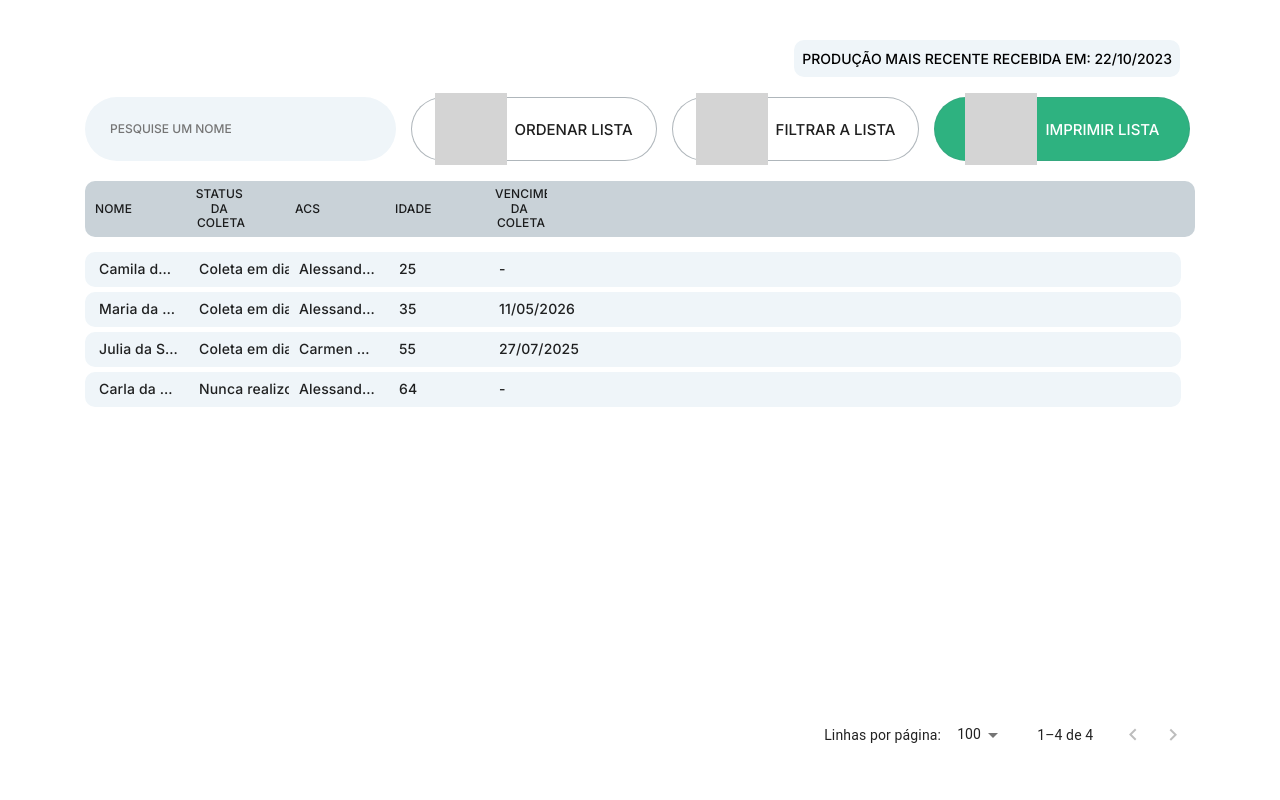
Test: Funcionalidade: ordenação › Ao aplicar uma opção de ordenação › deve exibir os dados ordenados e fechar o modal de ordenação
Click the button "ORDENAR LISTA" at (534, 129), box [410,97,657,161]
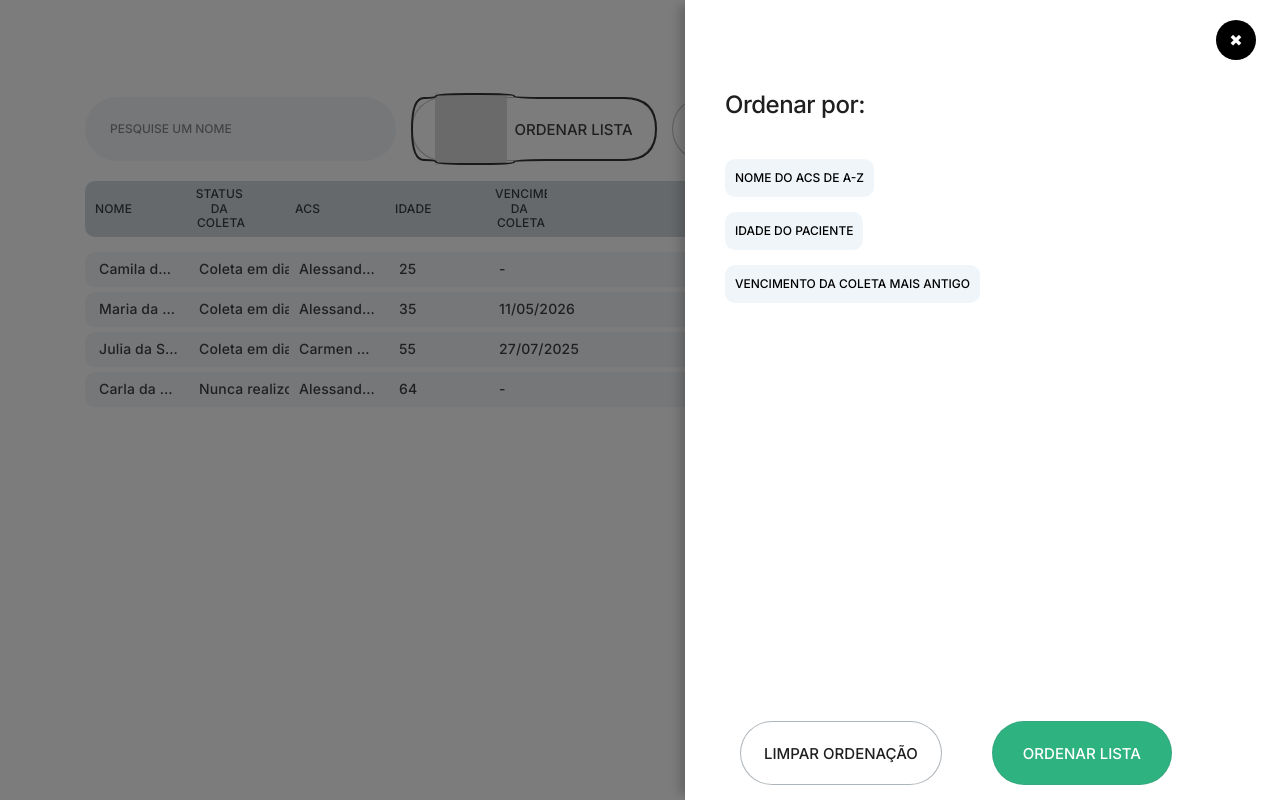
Click the text "NOME DO ACS DE A-Z" at (800, 178), box [725,159,874,197]
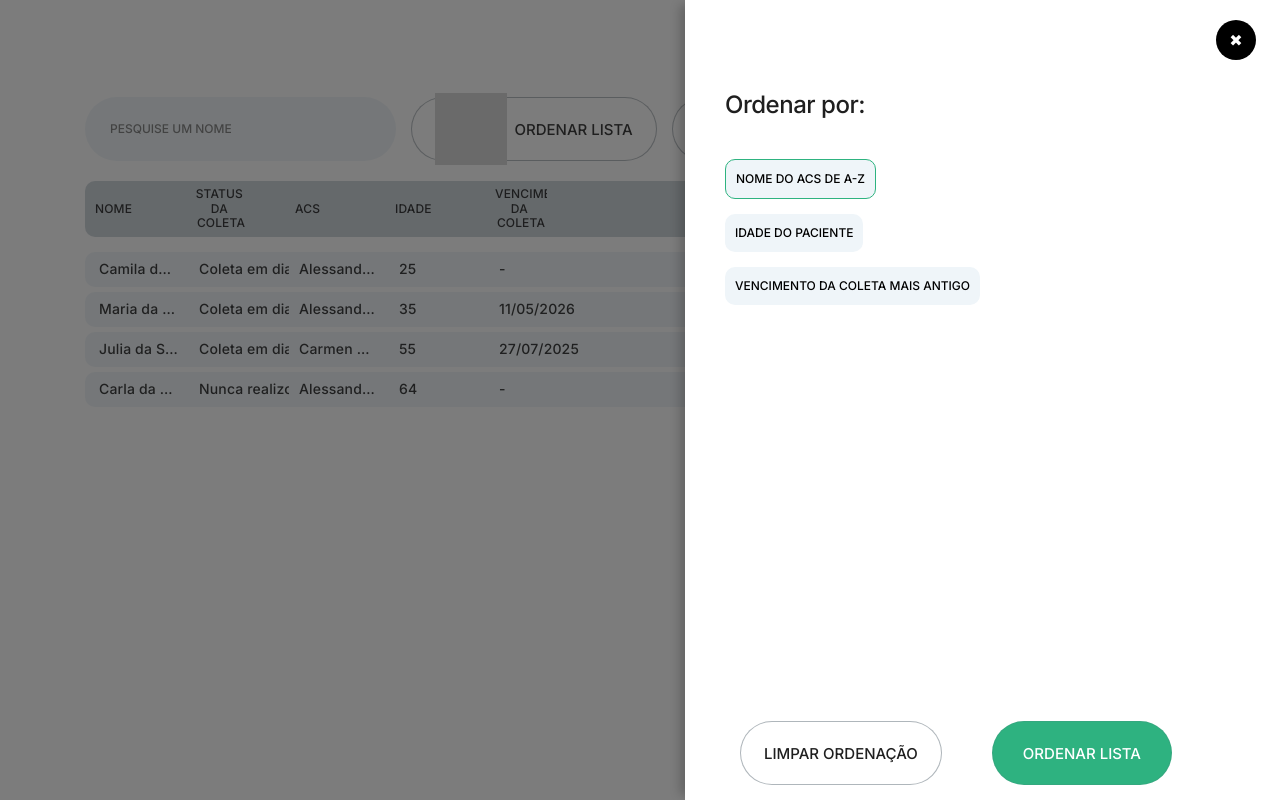
Click the button "ORDENAR LISTA" at (1082, 753), box [992,721,1172,785]
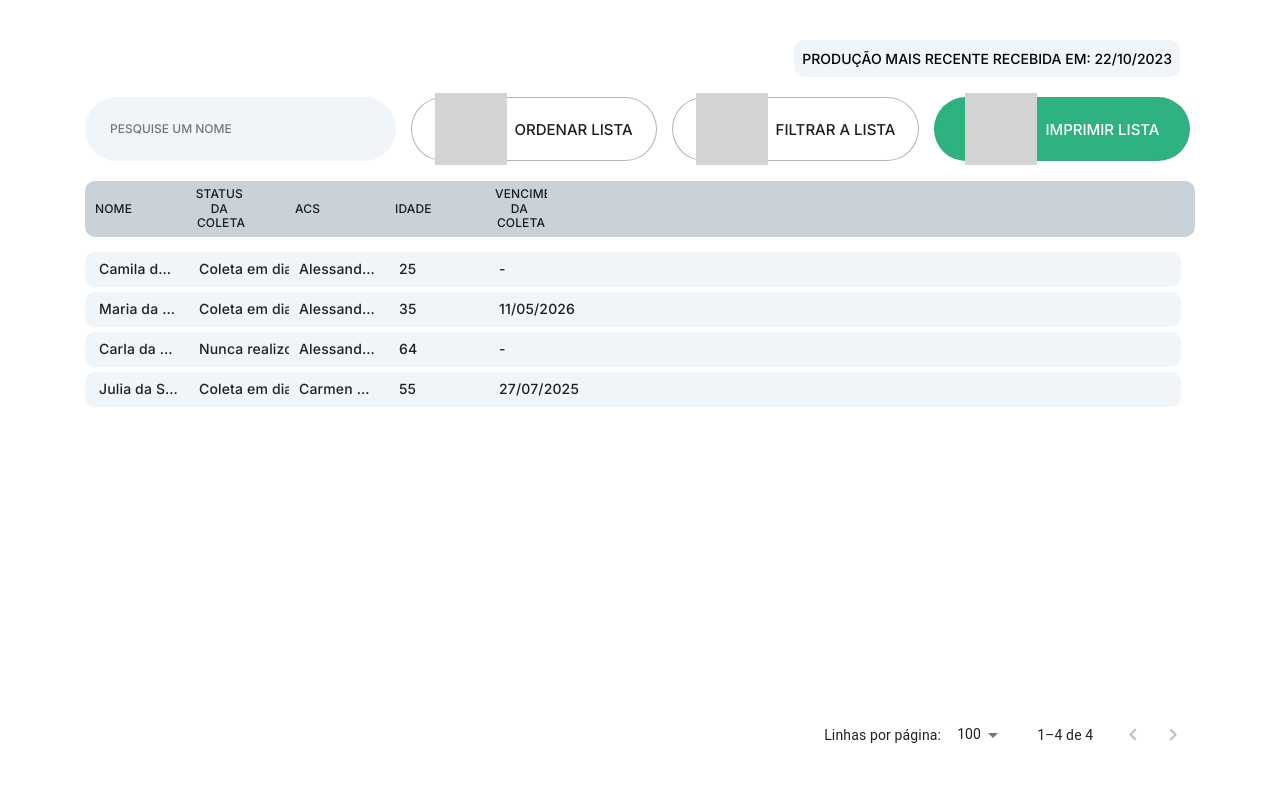
Expected: the text "Alessandra Santos" in the row of "Carla da Silva" is shown, [299,340,389,358]
Expected: the text "Carla da Silva" is shown, [99,340,179,360]
Expected: the text "Carmen Miranda" is shown, [299,380,379,400]
